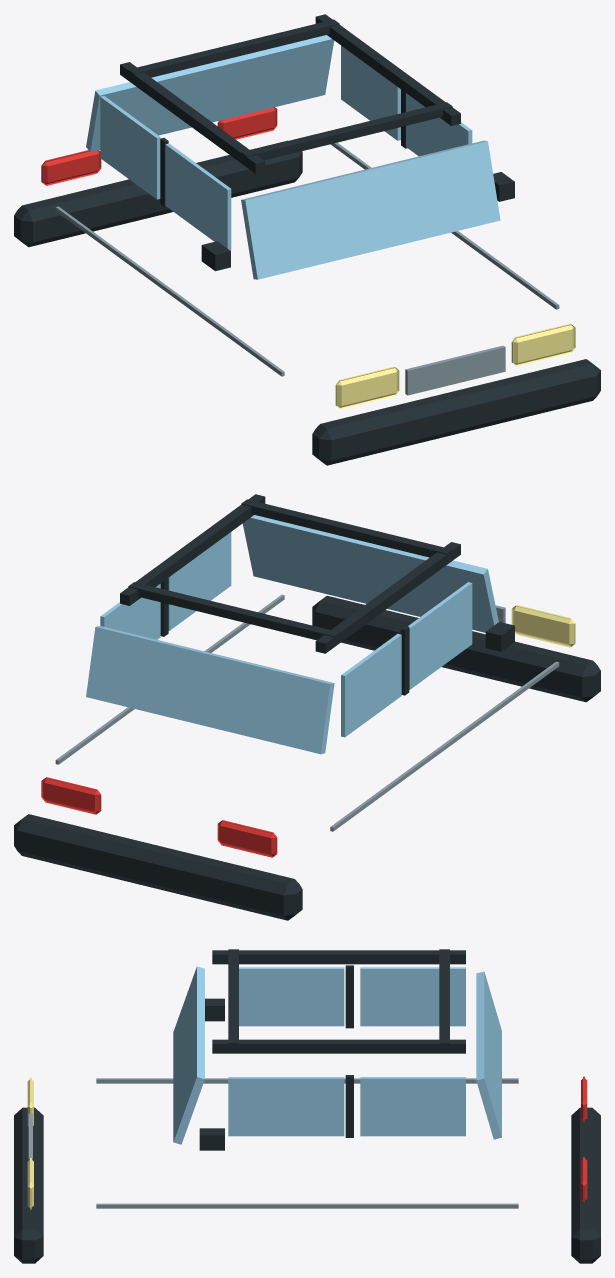
The model's file is Araba_Detay.fbx.
3 views of the same model, one above another, from view 1: azimuth 30°, elevation 25°; view 2: azimuth 150°, elevation 25°; view 3: azimuth 270°, elevation 25° (orthographic). The views are drawn at different scales.
Parts seen in each view (by area): view 1: Araba_Detay; view 2: Araba_Detay; view 3: Araba_Detay.
Part boxes in pixels (box(x1,y1,x2,y2)): Araba_Detay: box(14, 14, 600, 465); Araba_Detay: box(14, 494, 600, 920); Araba_Detay: box(14, 949, 600, 1263).
Bounding box in the file's own units: 153 × 108 × 278.
